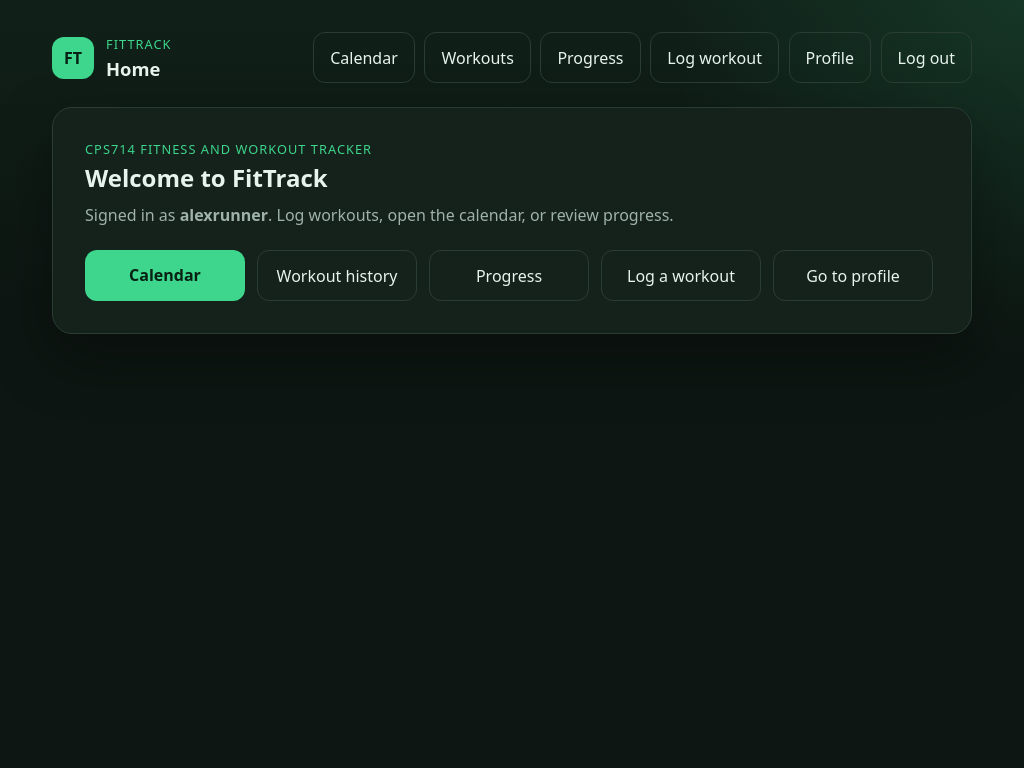
Test: S1-09 frontend registration → profile → logout → login flow › lets a signed-in user open their profile from home
Check: the text "Signed in as" is shown, box [85, 204, 180, 226]
Check: the button "Log out" is shown, box [881, 32, 972, 83]
Step 1. Click the link "Go to profile" → (853, 276), box [773, 250, 933, 301]
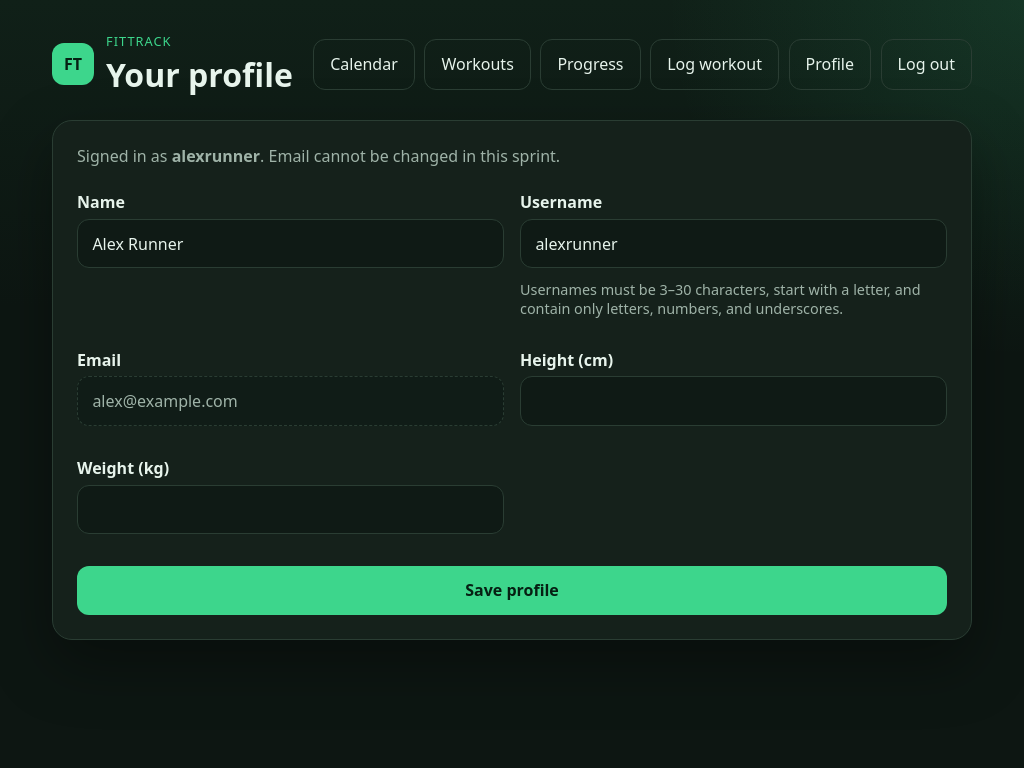
Check: the heading "Your profile" is shown, box [106, 53, 293, 96]
